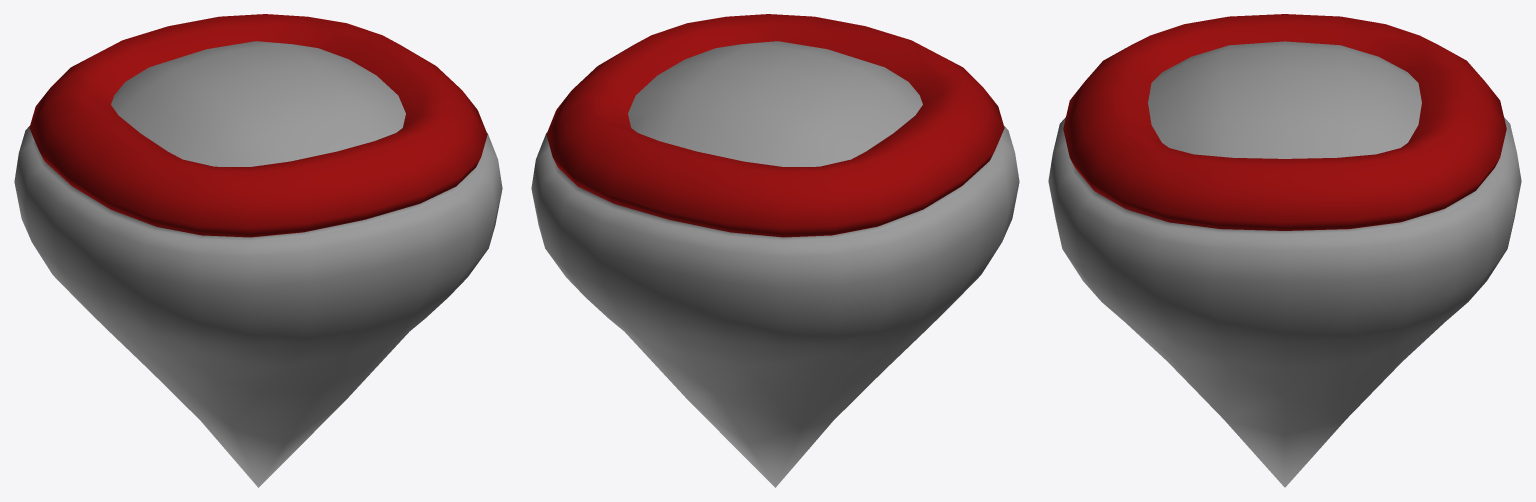
File: Character.fbx
3 renders of one model, left to right at view 1: azimuth 30°, elevation 25°; view 2: azimuth 150°, elevation 25°; view 3: azimuth 270°, elevation 25°, orthographic.
Parts seen in each view (by area): view 1: Character; view 2: Character; view 3: Character.
Part boxes in pixels (x1=…): Character: x1=14, y1=14, x2=502, y2=487; Character: x1=531, y1=14, x2=1019, y2=487; Character: x1=1048, y1=14, x2=1521, y2=487.
Bounding box in the file's own units: 61.2 × 59.89 × 61.2.
